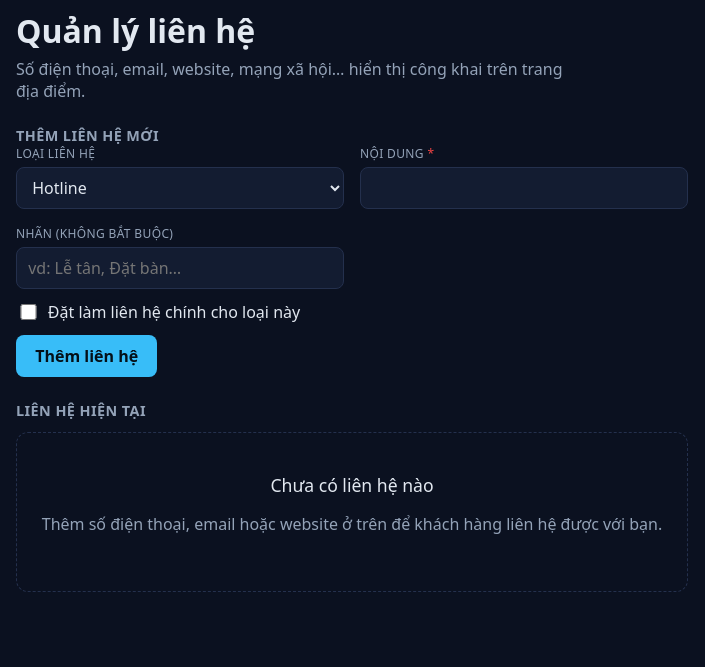
Test case: ContactsView — thêm liên hệ › backend từ chối 403 -> thông báo rõ ràng, KHÔNG âm thầm coi là thành công
Check: the text "Chưa có liên hệ nào" is shown, box top-left (270, 473), bottom-right (434, 497)
In the field labelled "Nội dung *": (524, 188) top-left (360, 167), bottom-right (688, 209), type "0909123456"
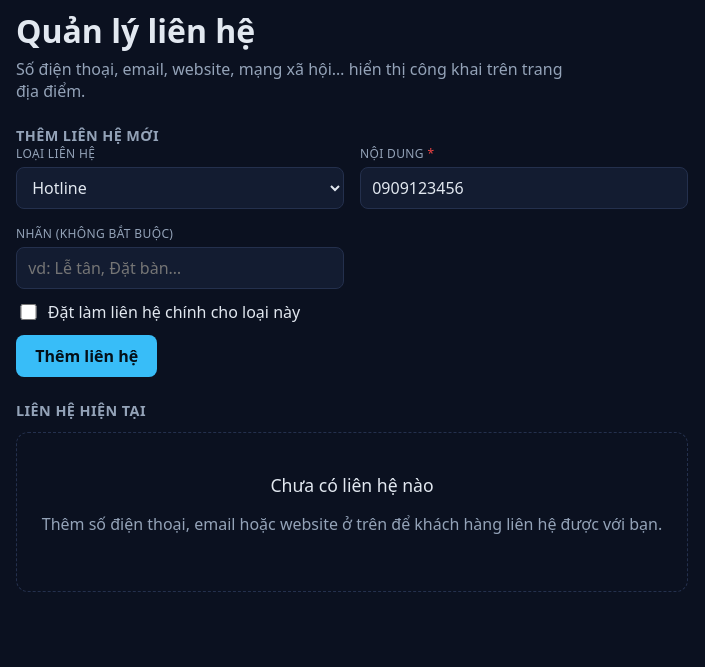
Click the button "Thêm liên hệ": (87, 356) top-left (16, 335), bottom-right (157, 377)
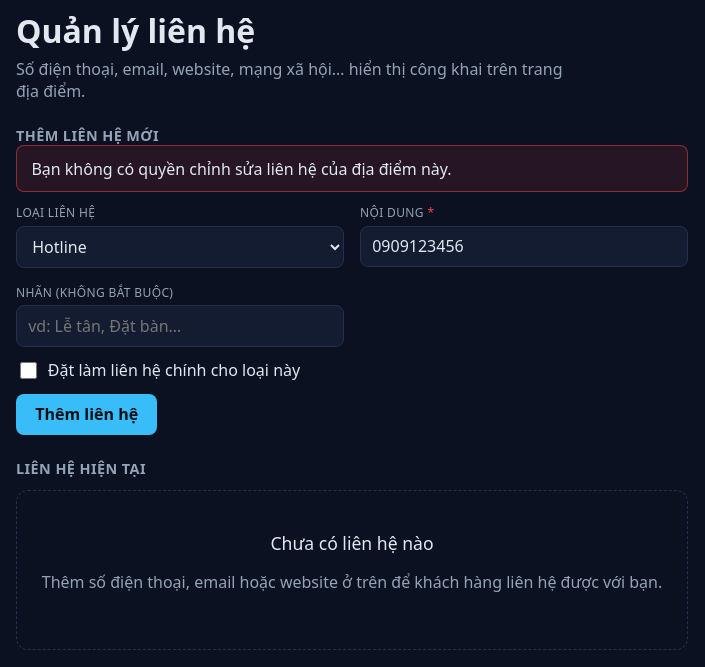
Check: the message reads "Bạn không có quyền chỉnh sửa liên hệ của địa điểm này.", box top-left (31, 158), bottom-right (452, 180)
